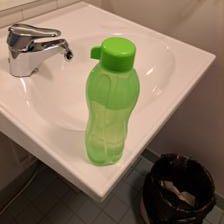bottle: (84, 35, 140, 167)
